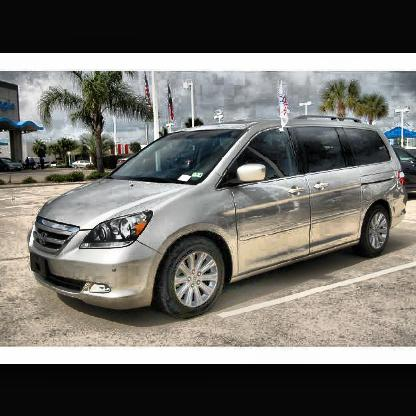Honda Odyssey Minivan 2007: (29, 115, 407, 320)
